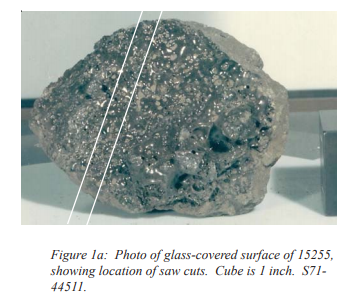Breccia: (33, 23, 304, 216), (127, 15, 298, 220), (33, 23, 150, 211)
